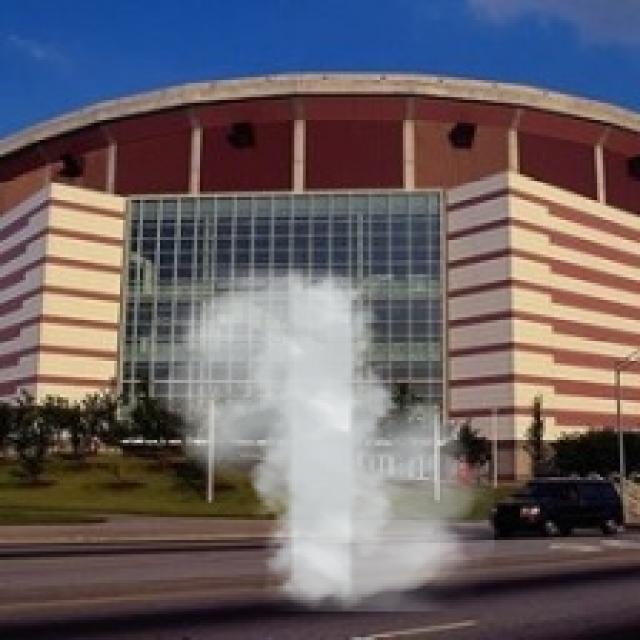Smoke: (148, 268, 494, 612)
